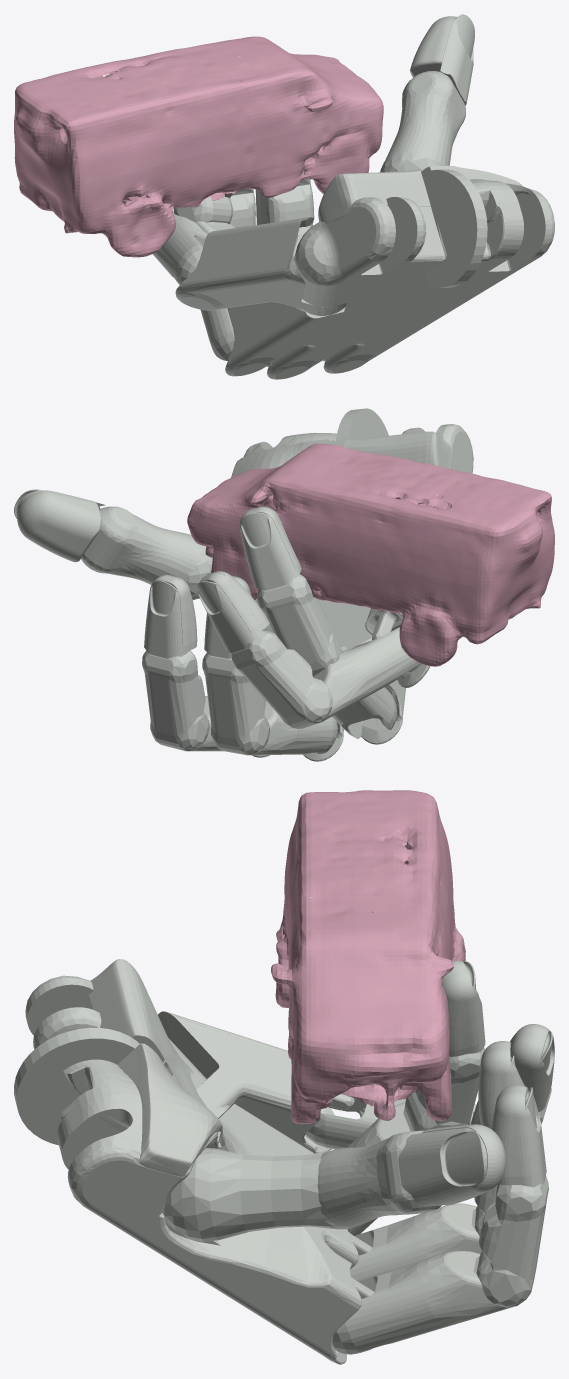
3 views of the same model, one above another, from view 1: azimuth 30°, elevation 25°; view 2: azimuth 150°, elevation 25°; view 3: azimuth 270°, elevation 25° (orthographic). The views are drawn at different scales.
Visible parts, largest first — view 1: hand, world; view 2: hand, world; view 3: hand, world.
Part boxes in pixels (box(x1,y1,x2,y2)): hand: box(153, 14, 554, 379); world: box(14, 36, 383, 257); hand: box(14, 408, 473, 761); world: box(187, 443, 554, 666); hand: box(14, 959, 554, 1364); world: box(271, 790, 465, 1124).
Size of the model in its own units: 0.189 by 0.1218 by 0.1483.
